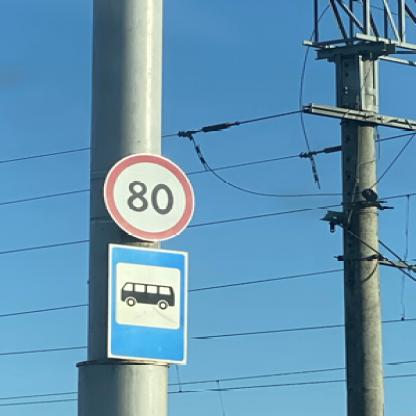speedlimit: (102, 152, 192, 240)
